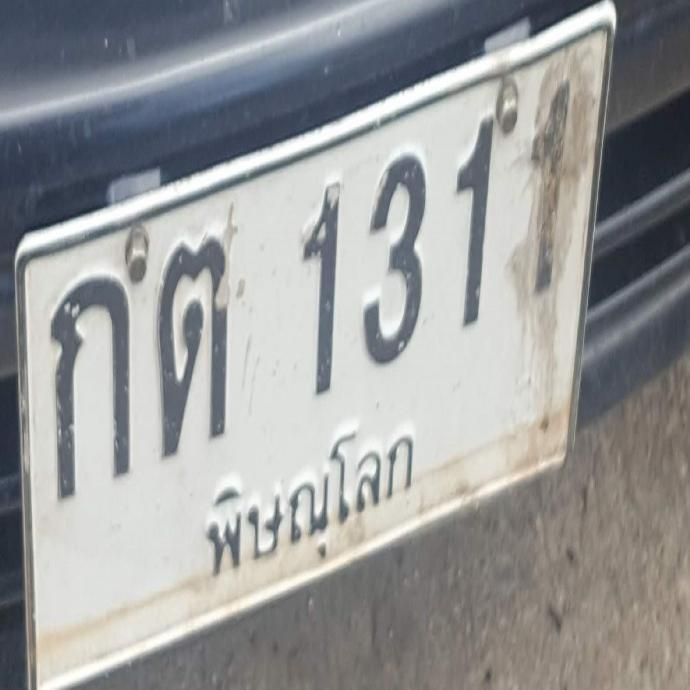1: (268, 173, 367, 397), (425, 101, 514, 329), (522, 80, 576, 309)
3: (335, 142, 451, 377)
A01: (26, 260, 162, 502)
A21: (124, 227, 259, 462)
PLK: (206, 431, 414, 575)
